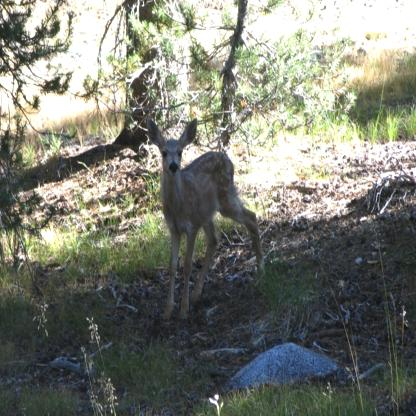Deer: (146, 119, 265, 326)
